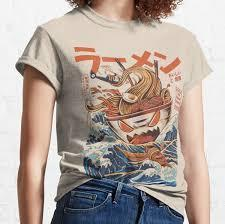Tshirt: (14, 5, 217, 218)
